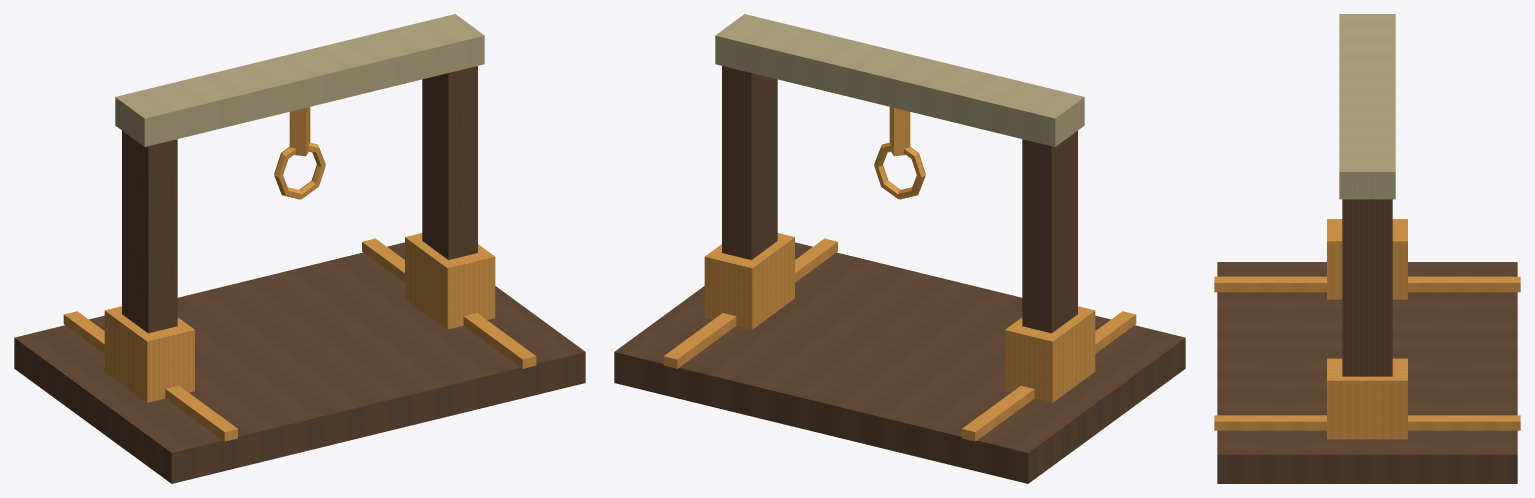
The model's file is atlas100-s012-a02.lod2.glb.
3 renders of one model, left to right at view 1: azimuth 30°, elevation 25°; view 2: azimuth 150°, elevation 25°; view 3: azimuth 270°, elevation 25°, orthographic. The views are drawn at different scales.
Visible parts, largest first — view 1: atlas100-s012-a02:part-000, atlas100-s012-a02:part-007, atlas100-s012-a02:part-003, atlas100-s012-a02:part-005, atlas100-s012-a02:part-004, atlas100-s012-a02:part-006, atlas100-s012-a02:part-002, atlas100-s012-a02:part-001, atlas100-s012-a02:part-009, atlas100-s012-a02:part-008; view 2: atlas100-s012-a02:part-000, atlas100-s012-a02:part-007, atlas100-s012-a02:part-003, atlas100-s012-a02:part-005, atlas100-s012-a02:part-004, atlas100-s012-a02:part-006, atlas100-s012-a02:part-002, atlas100-s012-a02:part-001, atlas100-s012-a02:part-009, atlas100-s012-a02:part-008; view 3: atlas100-s012-a02:part-000, atlas100-s012-a02:part-007, atlas100-s012-a02:part-005, atlas100-s012-a02:part-006, atlas100-s012-a02:part-001, atlas100-s012-a02:part-002, atlas100-s012-a02:part-004.
Boxes of the visible parts, x1=… form: atlas100-s012-a02:part-000: x1=14, y1=242, x2=585, y2=483; atlas100-s012-a02:part-007: x1=115, y1=14, x2=484, y2=146; atlas100-s012-a02:part-003: x1=122, y1=131, x2=177, y2=333; atlas100-s012-a02:part-005: x1=422, y1=66, x2=477, y2=259; atlas100-s012-a02:part-004: x1=104, y1=306, x2=194, y2=402; atlas100-s012-a02:part-006: x1=405, y1=233, x2=495, y2=329; atlas100-s012-a02:part-002: x1=362, y1=238, x2=536, y2=368; atlas100-s012-a02:part-001: x1=63, y1=311, x2=237, y2=441; atlas100-s012-a02:part-009: x1=274, y1=142, x2=325, y2=199; atlas100-s012-a02:part-008: x1=289, y1=107, x2=310, y2=156; atlas100-s012-a02:part-000: x1=614, y1=242, x2=1185, y2=483; atlas100-s012-a02:part-007: x1=715, y1=14, x2=1084, y2=146; atlas100-s012-a02:part-003: x1=1022, y1=131, x2=1077, y2=333; atlas100-s012-a02:part-005: x1=722, y1=66, x2=777, y2=259; atlas100-s012-a02:part-004: x1=1005, y1=306, x2=1095, y2=402; atlas100-s012-a02:part-006: x1=704, y1=233, x2=794, y2=329; atlas100-s012-a02:part-002: x1=663, y1=238, x2=837, y2=368; atlas100-s012-a02:part-001: x1=962, y1=311, x2=1136, y2=441; atlas100-s012-a02:part-009: x1=874, y1=142, x2=925, y2=199; atlas100-s012-a02:part-008: x1=889, y1=107, x2=910, y2=156; atlas100-s012-a02:part-000: x1=1217, y1=262, x2=1517, y2=483; atlas100-s012-a02:part-007: x1=1339, y1=14, x2=1395, y2=199; atlas100-s012-a02:part-005: x1=1342, y1=199, x2=1392, y2=376; atlas100-s012-a02:part-006: x1=1327, y1=358, x2=1407, y2=439; atlas100-s012-a02:part-001: x1=1214, y1=276, x2=1520, y2=292; atlas100-s012-a02:part-002: x1=1214, y1=415, x2=1520, y2=430; atlas100-s012-a02:part-004: x1=1327, y1=219, x2=1407, y2=299.
Size of the model in its own units: 3.64 by 2.6 by 2.45.
Materials: 3 (3 with a texture image).
